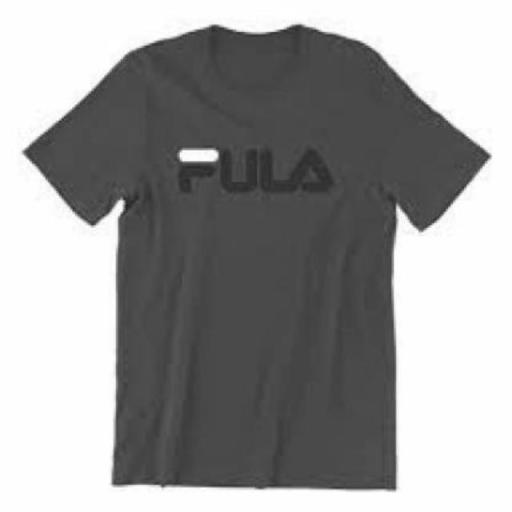Fila: (170, 122, 338, 204)
